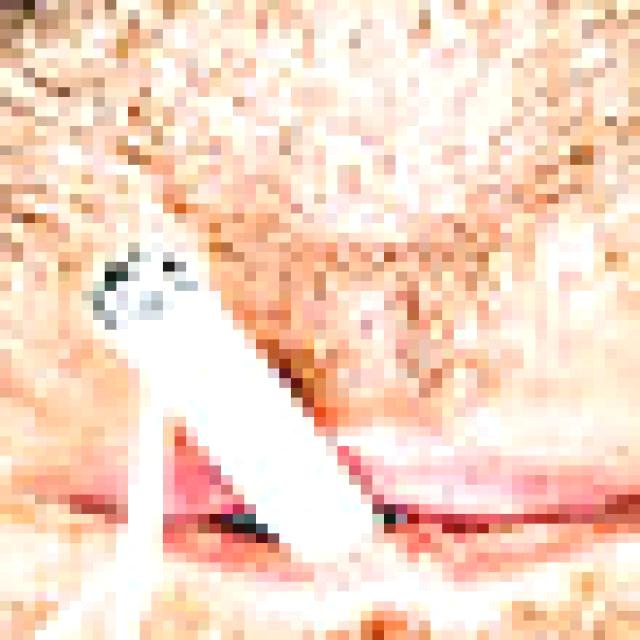cigarette: (81, 232, 372, 562)
